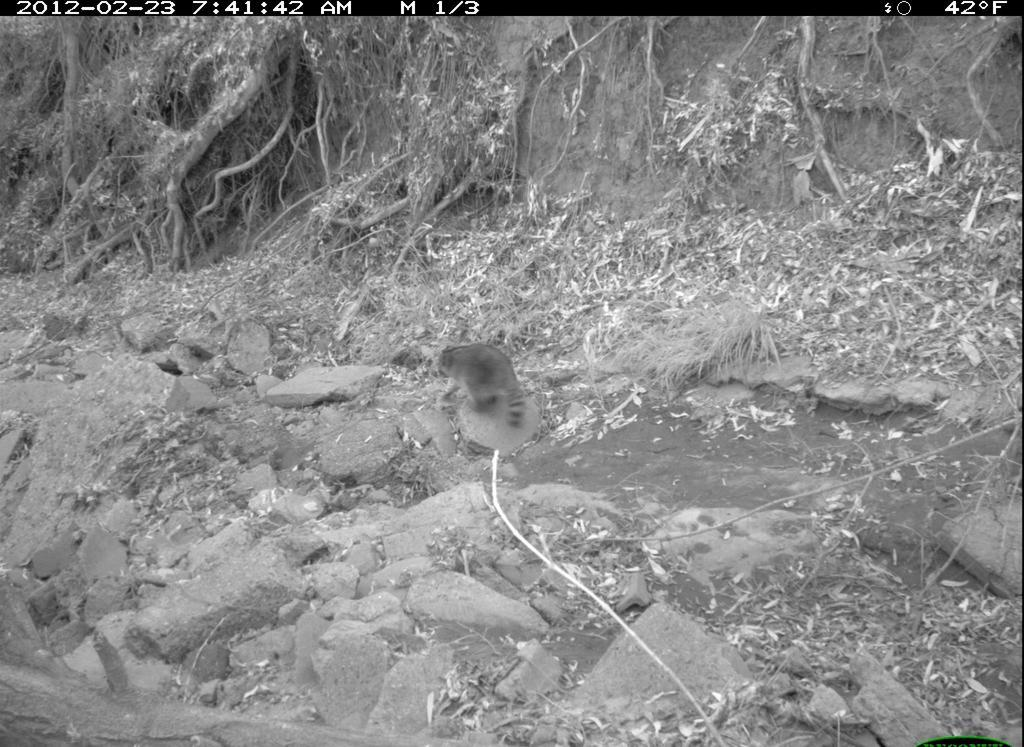raccoon: (428, 337, 543, 457)
